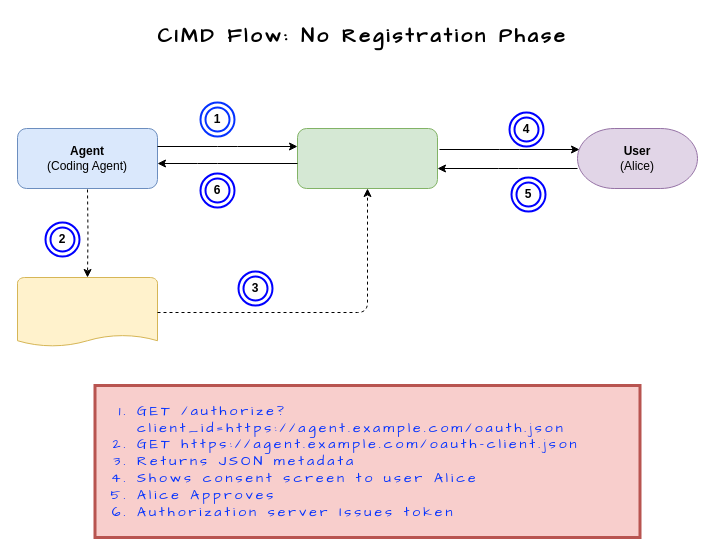
Some shapes in this 715 by 556 pixel diagram are drawn without their labels. The shapes that lost their labels are listed below. From the top down, each one's centre as x and y in pixels, then its label:
(x=367, y=158): Authorization Server
(x=87, y=312): Metadata File oauth-client.json
